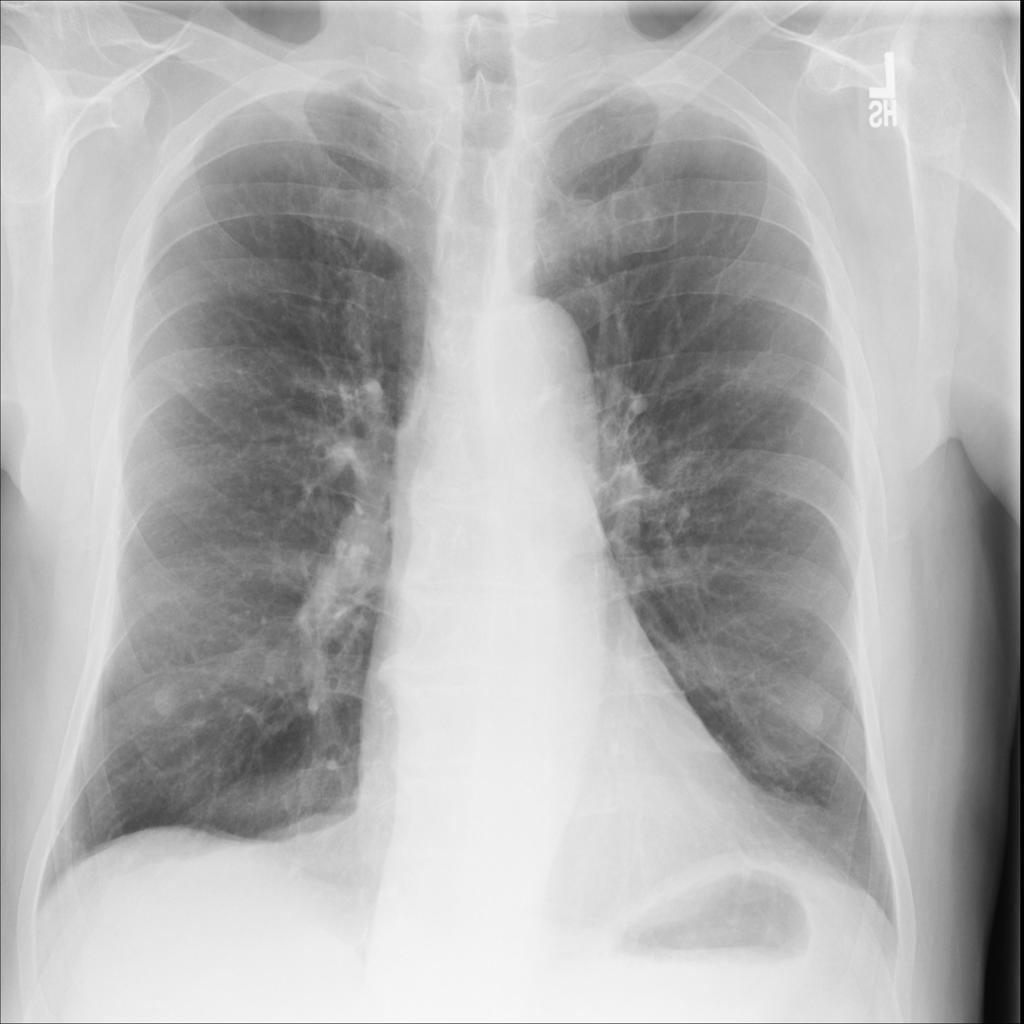nodule: (761, 678, 838, 756), (143, 673, 191, 726)
